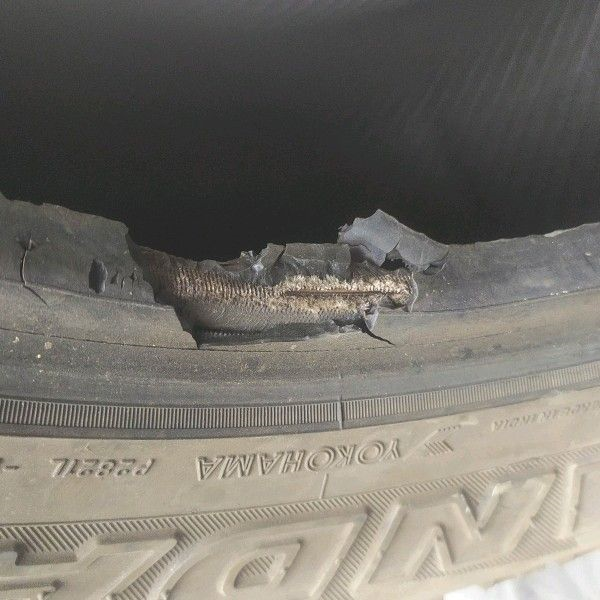bead_damage: (75, 210, 465, 351), (12, 229, 54, 312)
